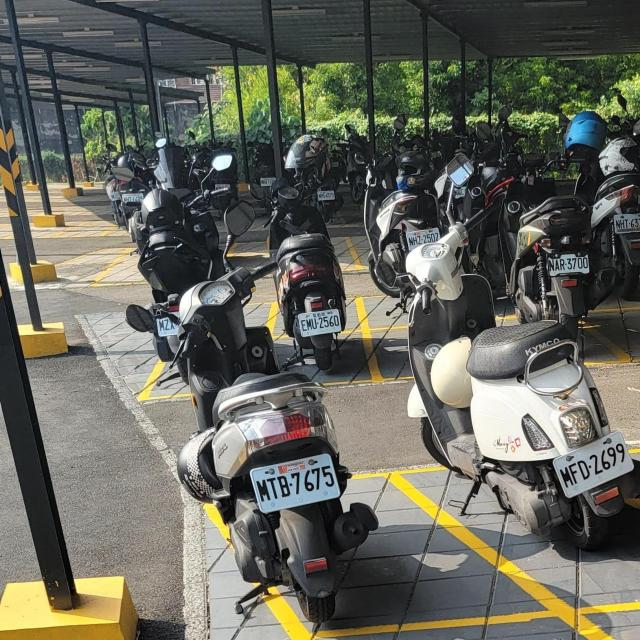W: (246, 452, 343, 515), (550, 432, 636, 498), (294, 308, 345, 338), (546, 250, 591, 277), (152, 314, 182, 338), (612, 212, 640, 235)
